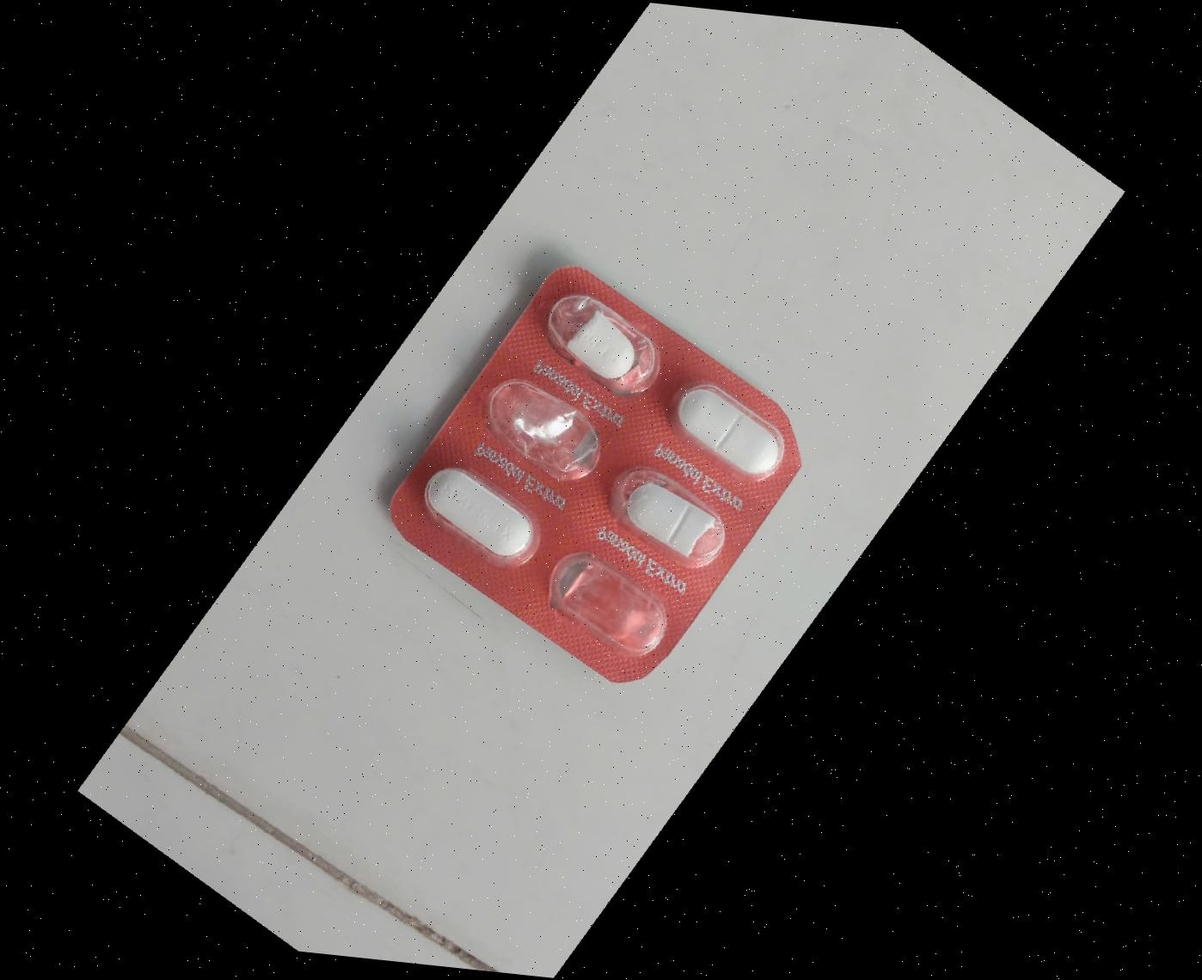Empty: (531, 535, 687, 676), (466, 360, 622, 500)
Partial: (652, 358, 808, 499), (522, 266, 678, 407), (403, 449, 559, 590), (588, 439, 744, 580)
